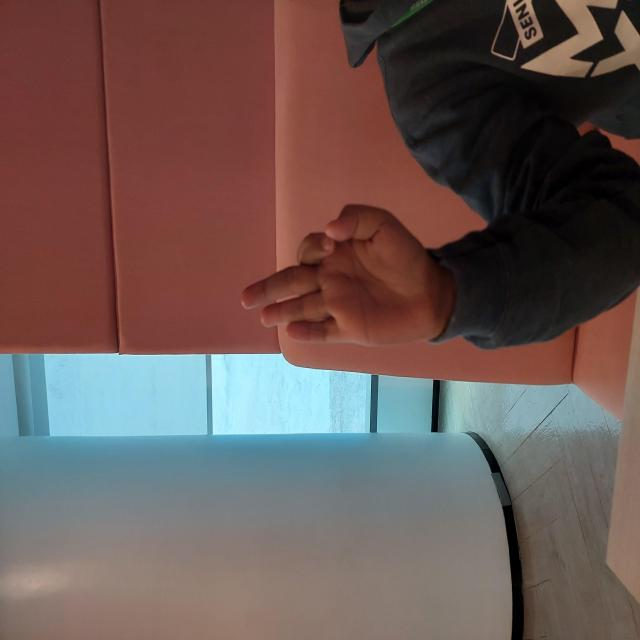F: (287, 234, 441, 450)
